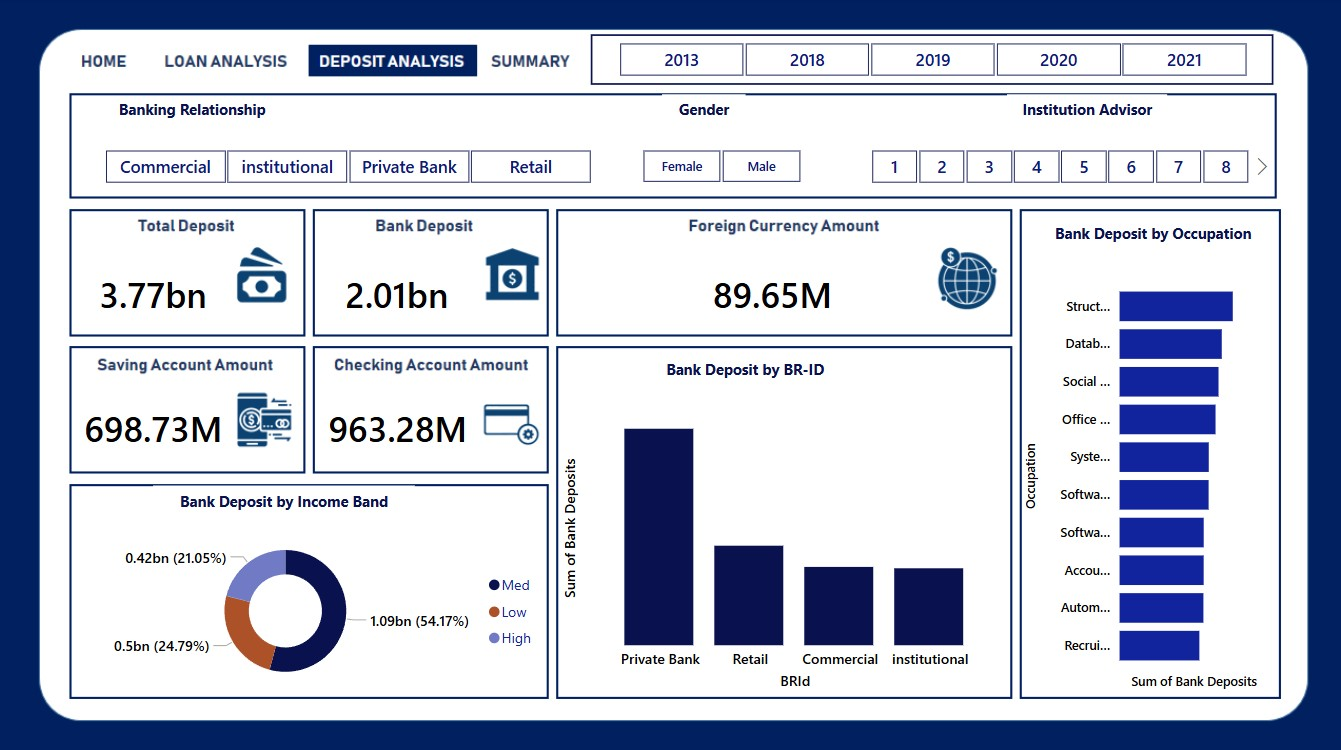

This screenshot's page, from the dashboard's own definition file:
{"tool":"powerbi","page":{"name":"Deposit analysis","canvas":[1280,720],"ordinal":2},"visuals":[{"type":"actionButton","box":[63.1,42.5,82.3,32.9],"z":0},{"type":"actionButton","box":[156.4,42.5,126.2,32.9],"z":1000},{"type":"actionButton","box":[463.8,42.5,89.2,32.9],"z":2000},{"type":"card","fields":{"Values":["banking_case customer.Total deposite"]},"box":[76.8,251.1,142.7,60.4],"z":3000},{"type":"card","fields":{"Values":["Sum(banking_case customer.Bank Deposits)"]},"box":[310.1,251.1,140,60.4],"z":4000},{"type":"card","fields":{"Values":["Sum(banking_case customer.Saving Accounts)"]},"box":[76.8,378.7,142.7,60.4],"z":5000},{"type":"card","fields":{"Values":["Sum(banking_case customer.Checking Accounts)"]},"box":[303.3,378.7,153.7,60.4],"z":6000},{"type":"card","fields":{"Values":["Sum(banking_case customer.Foreign Currency Account)"]},"box":[639.5,251.1,193.5,60.4],"z":7000},{"type":"textbox","box":[148.2,462.4,248.4,41.2],"z":8000},{"type":"textbox","box":[983.9,208.6,227.8,28.8],"z":9000},{"type":"textbox","box":[587.3,337.6,245.6,41.2],"z":10000},{"type":"donutChart","fields":{"Category":["banking_case customer.income band"],"Y":["Sum(banking_case customer.Bank Deposits)"]},"box":[76.8,503.6,444.6,157.8],"z":11000},{"type":"clusteredColumnChart","fields":{"Category":["banking_case customer.BRId"],"Y":["Sum(banking_case customer.Bank Deposits)"]},"box":[533.8,378.7,425.4,282.7],"z":12000},{"type":"clusteredBarChart","fields":{"Y":["Sum(banking_case customer.Bank Deposits)"],"Category":["banking_case customer.Occupation"]},"box":[971.5,251.1,240.1,410.3],"z":13000},{"type":"slicer","fields":{"Values":["banking_case customer.join of year"]},"box":[564,34.3,647.7,48],"z":14000},{"type":"slicer","fields":{"Values":["banking_case customer.BRId"]},"box":[76.8,137.2,510.5,43.9],"z":15000},{"type":"slicer","fields":{"Values":["banking_case customer.GenderId"]},"box":[587.3,137.2,199,43.9],"z":16000},{"type":"slicer","fields":{"Values":["banking_case customer.IAId"]},"box":[804.1,137.2,407.5,43.9],"z":17000},{"type":"textbox","box":[104.3,91.9,161.9,34.3],"z":18000},{"type":"textbox","box":[631.2,91.9,79.6,34.3],"z":19000},{"type":"textbox","box":[959.2,91.9,152.3,37],"z":20000}]}

Visuals, with their boxes in screenshot pixels (x1, y1, x2, y2), scaled from the page's 1280x720 canvas onto the 1341x750 screenshot:
actionButton: (x1=66, y1=44, x2=152, y2=79)
actionButton: (x1=164, y1=44, x2=296, y2=79)
actionButton: (x1=486, y1=44, x2=579, y2=79)
card - banking_case customer.Total deposite: (x1=80, y1=262, x2=230, y2=324)
card - Sum(banking_case customer.Bank Deposits): (x1=325, y1=262, x2=472, y2=324)
card - Sum(banking_case customer.Saving Accounts): (x1=80, y1=394, x2=230, y2=457)
card - Sum(banking_case customer.Checking Accounts): (x1=318, y1=394, x2=479, y2=457)
card - Sum(banking_case customer.Foreign Currency Account): (x1=670, y1=262, x2=873, y2=324)
textbox: (x1=155, y1=482, x2=416, y2=525)
textbox: (x1=1031, y1=217, x2=1269, y2=247)
textbox: (x1=615, y1=352, x2=873, y2=395)
donutChart - banking_case customer.income band x Sum(banking_case customer.Bank Deposits): (x1=80, y1=525, x2=546, y2=689)
clusteredColumnChart - banking_case customer.BRId x Sum(banking_case customer.Bank Deposits): (x1=559, y1=394, x2=1005, y2=689)
clusteredBarChart - Sum(banking_case customer.Bank Deposits) x banking_case customer.Occupation: (x1=1018, y1=262, x2=1269, y2=689)
slicer - banking_case customer.join of year: (x1=591, y1=36, x2=1269, y2=86)
slicer - banking_case customer.BRId: (x1=80, y1=143, x2=615, y2=189)
slicer - banking_case customer.GenderId: (x1=615, y1=143, x2=824, y2=189)
slicer - banking_case customer.IAId: (x1=842, y1=143, x2=1269, y2=189)
textbox: (x1=109, y1=96, x2=279, y2=131)
textbox: (x1=661, y1=96, x2=745, y2=131)
textbox: (x1=1005, y1=96, x2=1164, y2=134)
